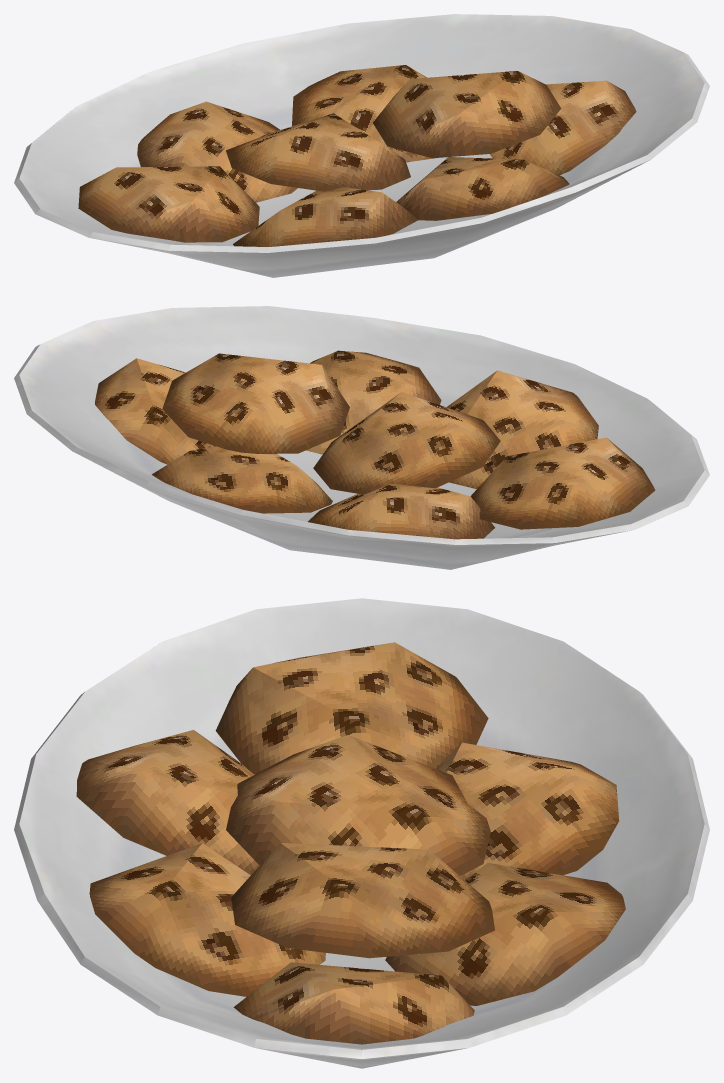
The model's file is galletas.fbx.
The picture shows the model from 3 angles, top to bottom: view 1: azimuth 30°, elevation 25°; view 2: azimuth 150°, elevation 25°; view 3: azimuth 270°, elevation 25°; orthographic projection. The views are drawn at different scales.
Visible parts, largest first — view 1: s4studio_mesh_1, s4studio_mesh_2; view 2: s4studio_mesh_1, s4studio_mesh_2; view 3: s4studio_mesh_1, s4studio_mesh_2.
Boxes of the visible parts, left/top/right/bottom form: s4studio_mesh_1: left=78, top=65, right=636, bottom=246; s4studio_mesh_2: left=14, top=14, right=709, bottom=277; s4studio_mesh_1: left=95, top=350, right=655, bottom=539; s4studio_mesh_2: left=14, top=306, right=709, bottom=569; s4studio_mesh_1: left=76, top=642, right=625, bottom=1044; s4studio_mesh_2: left=14, top=598, right=709, bottom=1068.
Size of the model in its own units: 38.41 by 5.77 by 24.63.
2 materials, 2 textured.
